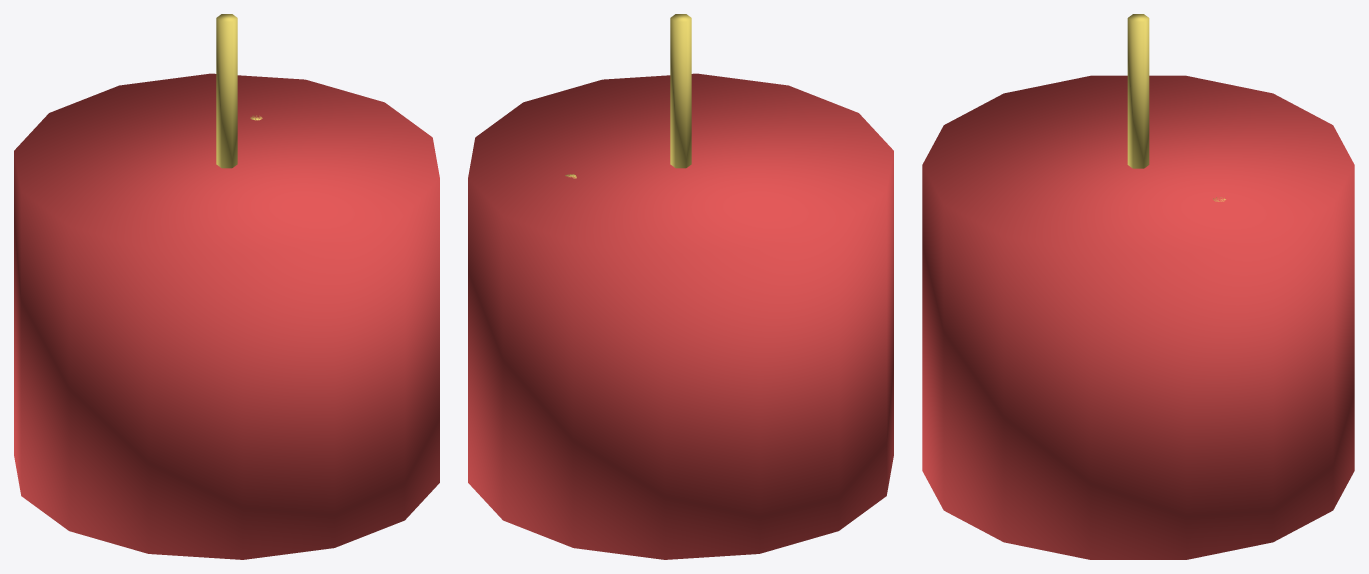
File: hat_fez.glb
3 views of the same model, side by side, from view 1: azimuth 30°, elevation 25°; view 2: azimuth 150°, elevation 25°; view 3: azimuth 270°, elevation 25° (orthographic).
Visible parts, largest first — view 1: hat_fez; view 2: hat_fez; view 3: hat_fez.
Boxes of the visible parts, box(x1,y1,x2,y2) form: hat_fez: box(14, 14, 439, 559); hat_fez: box(468, 14, 893, 559); hat_fez: box(922, 14, 1354, 559).
Size of the model in its own units: 0.312 by 0.37 by 0.32.
